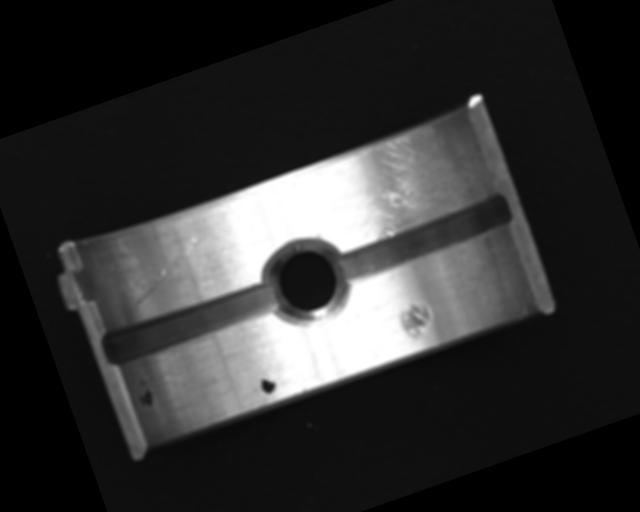blot: (131, 374, 157, 411), (257, 370, 278, 396)
bruise: (396, 298, 438, 346)
gap: (97, 274, 284, 374), (326, 190, 516, 288)
hole: (250, 225, 359, 338)
nick: (118, 235, 214, 308)
scratch: (305, 112, 490, 255)
